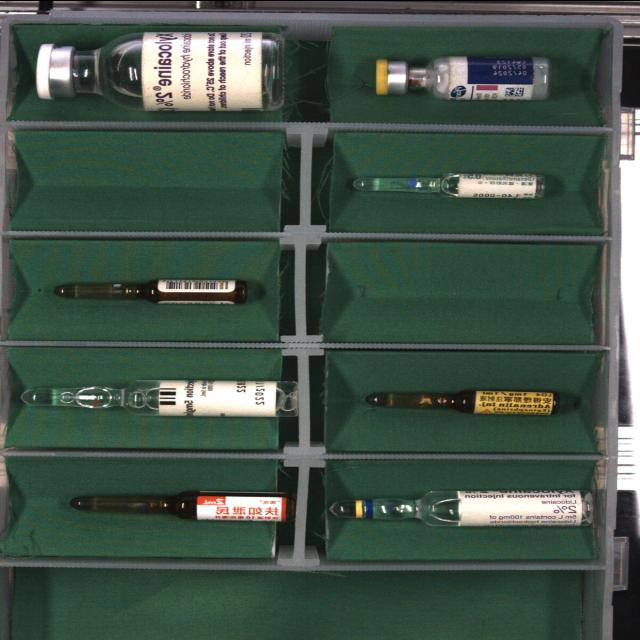Vials: (36, 30, 284, 110), (376, 56, 551, 99)
